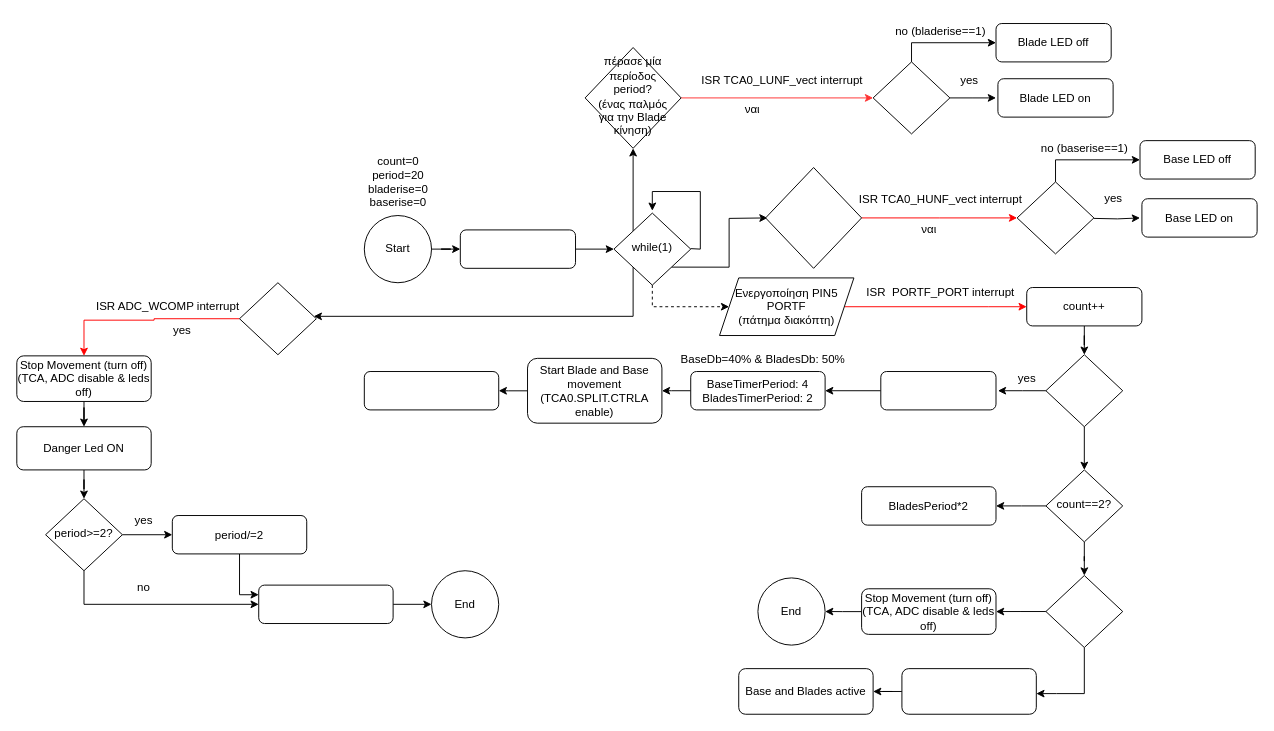
The diagram is 1274 pixels wide and 731 high, and some of its shapes have lost their labels. Each missing label, with the centre of its shape:
ADC freeruning mode: (938,390)
ADC result<10?: (277,318)
baserise=0 bladerise=0: (431,390)
baserise==0: (1055,217)
bladerise==0: (911,97)
count=0: (325,604)
count=1: (968,691)
count==1?: (1084,390)
count==3?: (1084,611)
Αρχικοποίηση των LEDs, TCA, PIN5 του PortF, ADC και PWM: (517,248)
πέρασε μία περίοδος 4? (ένας παλμός για την Base κίνηση): (813,217)
